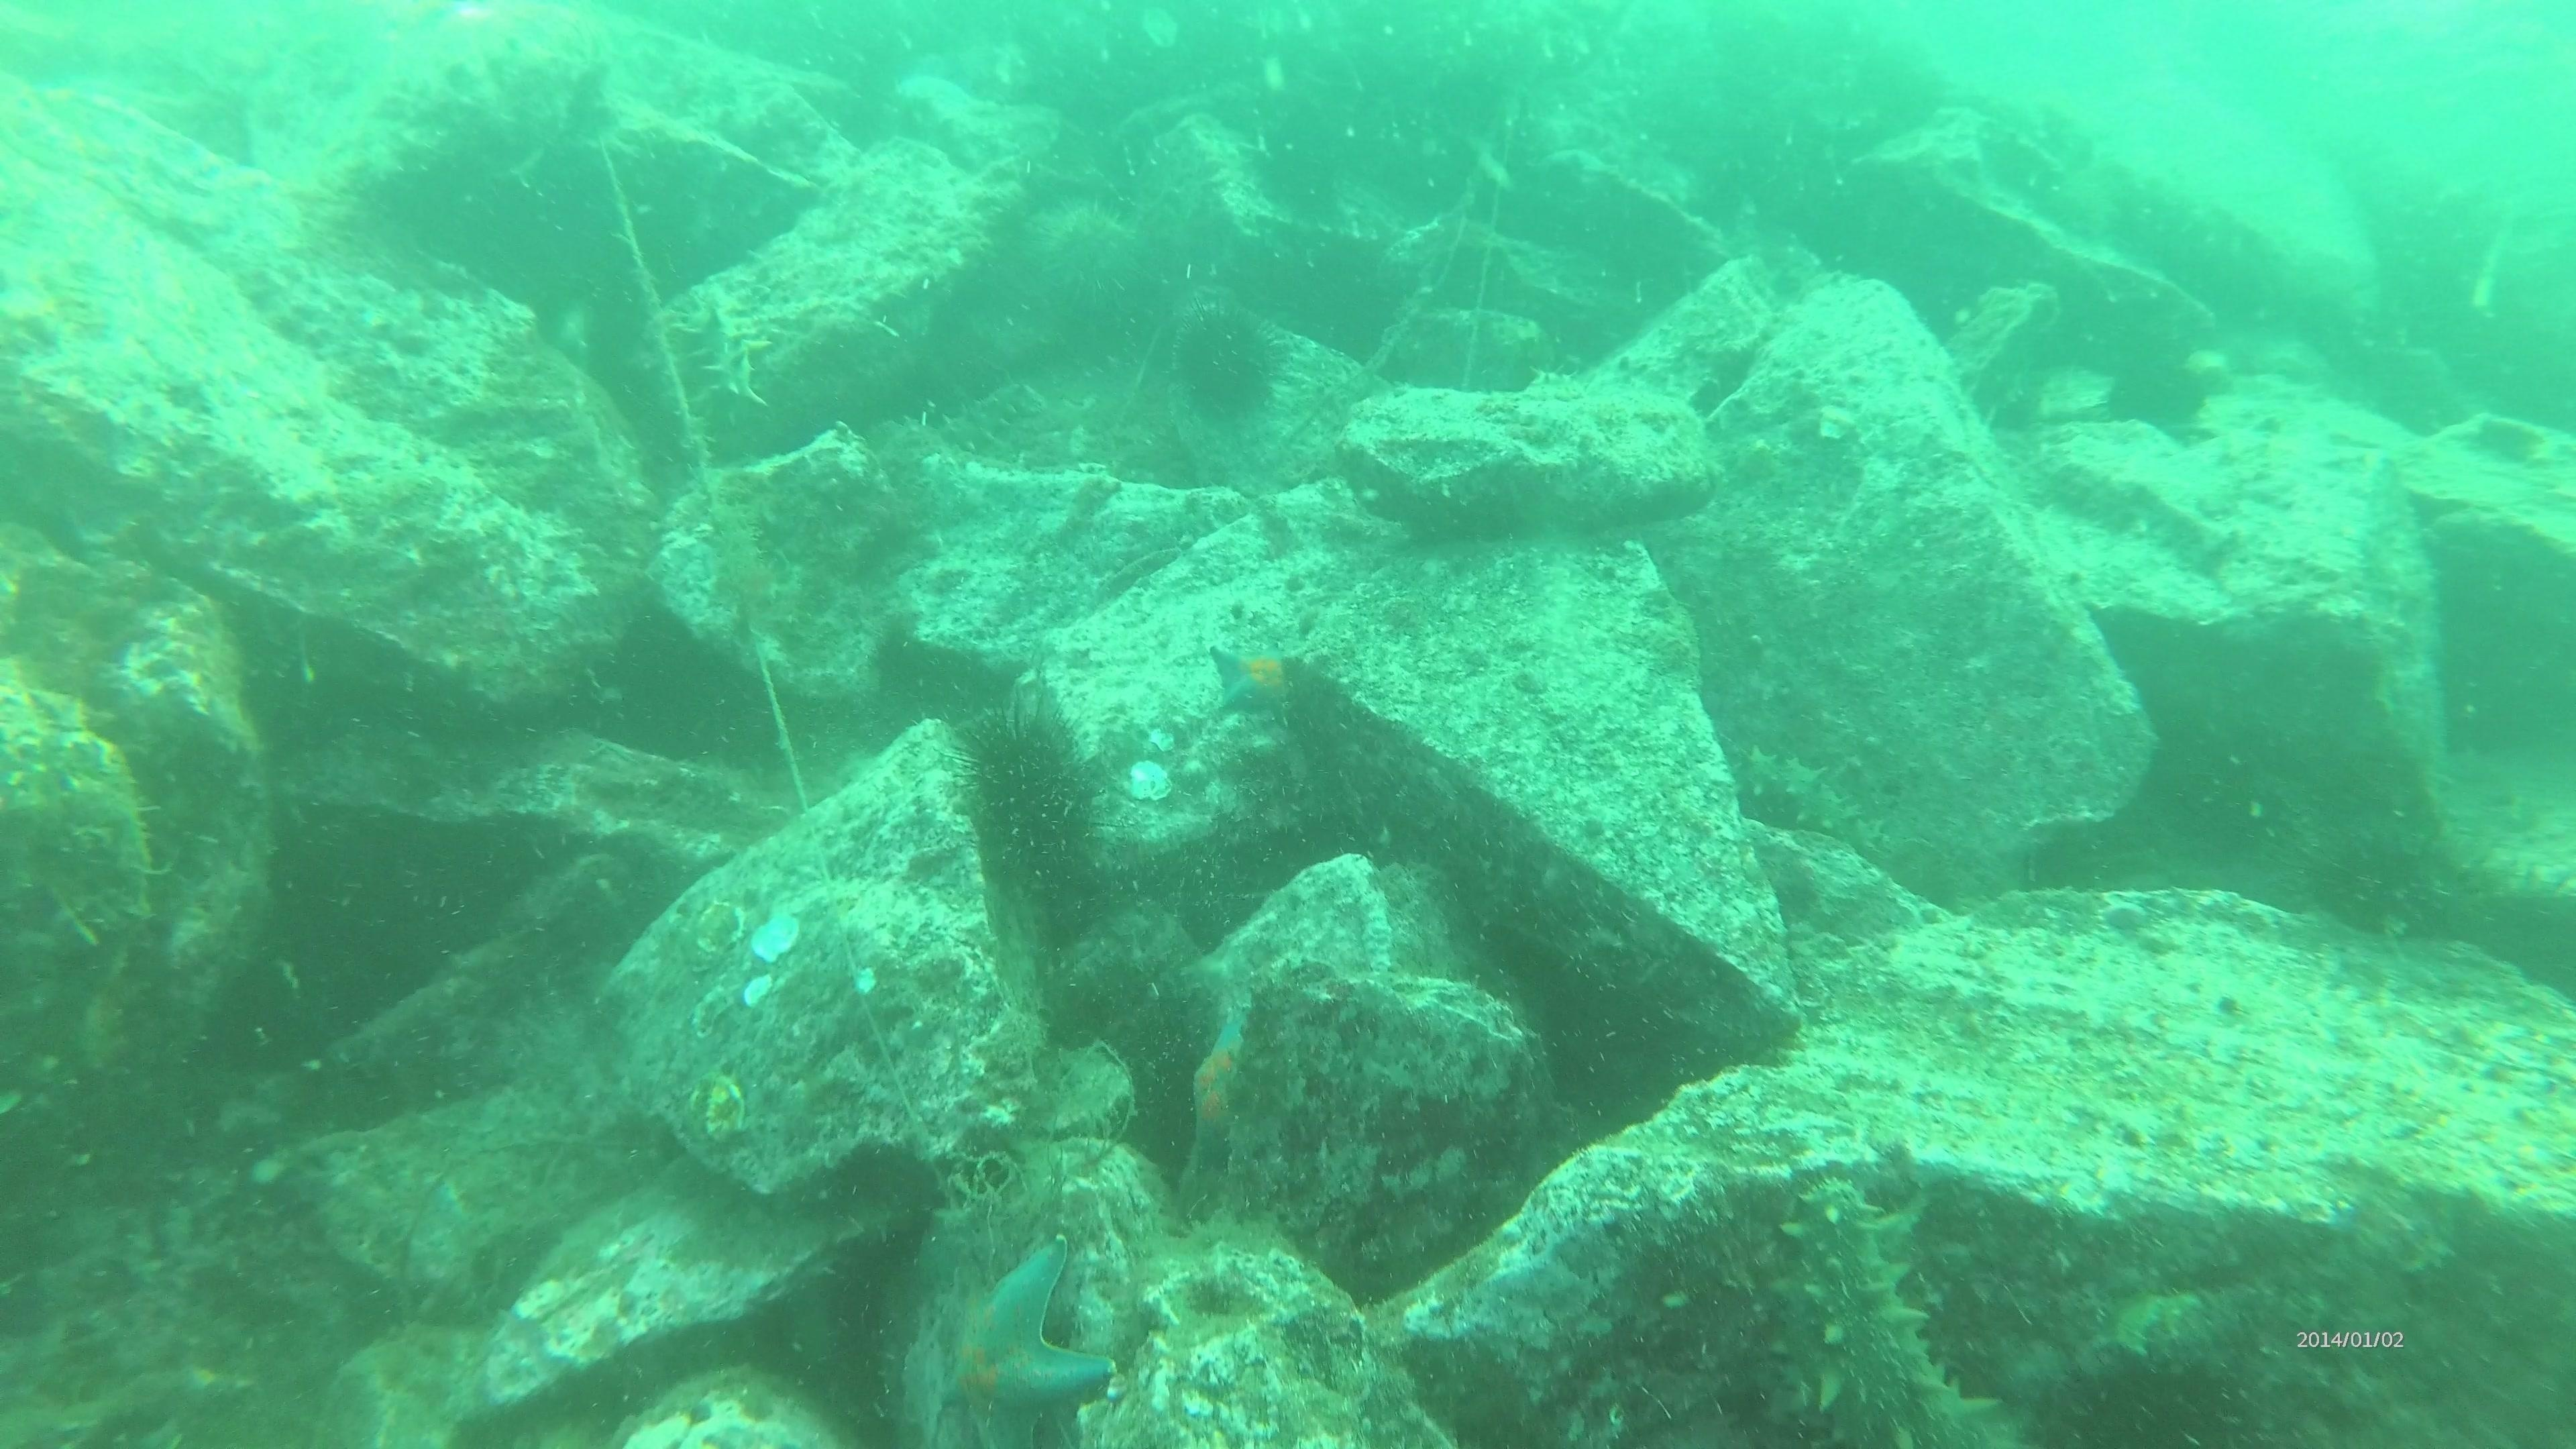echinus: (948, 697, 1113, 911), (2302, 824, 2450, 943), (1019, 193, 1157, 320), (1166, 301, 1290, 426), (2093, 336, 2224, 444), (1246, 119, 1352, 226)
holothurian: (1748, 1169, 1990, 1444), (1727, 736, 1875, 856), (671, 280, 778, 426), (927, 375, 1054, 465)
starfish: (915, 1235, 1120, 1444), (1180, 982, 1263, 1191), (1201, 630, 1316, 731)
